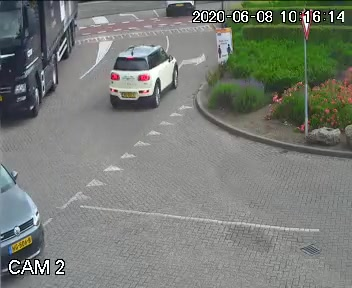car: (0, 0, 85, 131), (0, 154, 63, 275), (92, 41, 188, 119), (162, 0, 209, 19)
